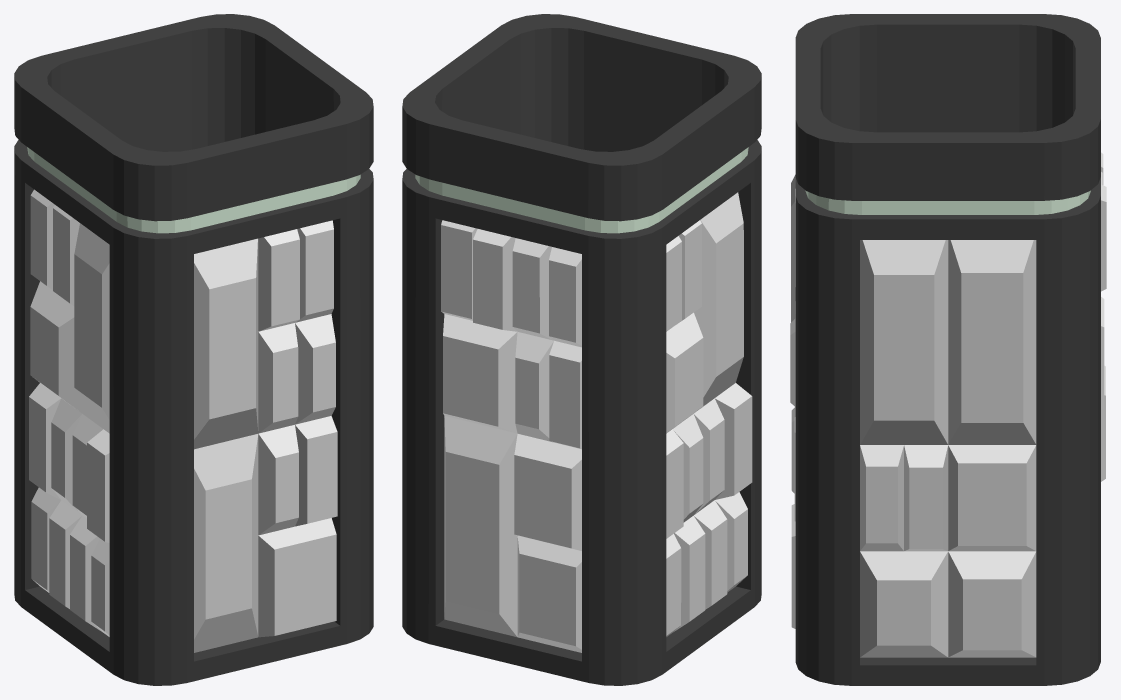
Rendered from trashBin.fbx.
3 views of the same model, side by side, from view 1: azimuth 30°, elevation 25°; view 2: azimuth 150°, elevation 25°; view 3: azimuth 270°, elevation 25° (orthographic). The views are drawn at different scales.
Visible parts, largest first — view 1: Cube, discombobulated_mesh; view 2: Cube, discombobulated_mesh; view 3: Cube, discombobulated_mesh.
Boxes of the visible parts, <box> form: Cube: <box>14,14,373,685</box>; discombobulated_mesh: <box>29,189,337,652</box>; Cube: <box>402,14,761,685</box>; discombobulated_mesh: <box>441,192,752,652</box>; Cube: <box>795,14,1100,685</box>; discombobulated_mesh: <box>790,152,1106,657</box>.
Size of the model in its own units: 250 by 475 by 251.
